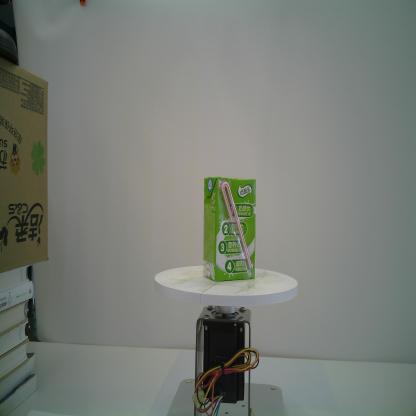Milk: (202, 176, 257, 282)
